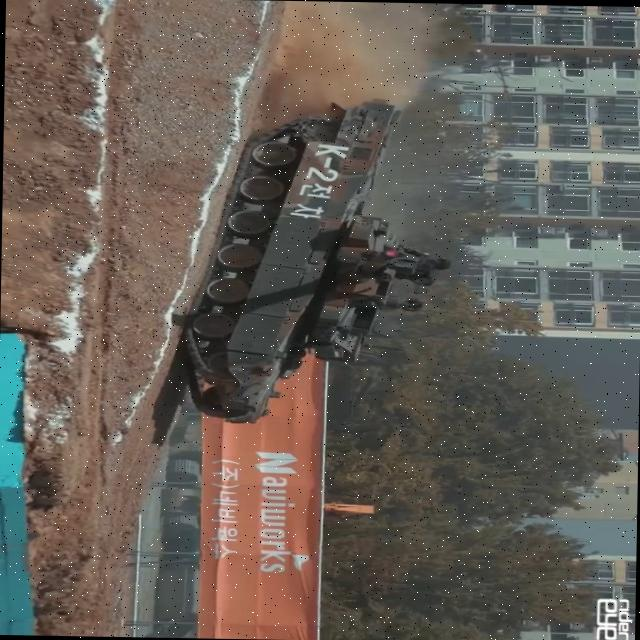korea tank: (178, 92, 454, 428)
